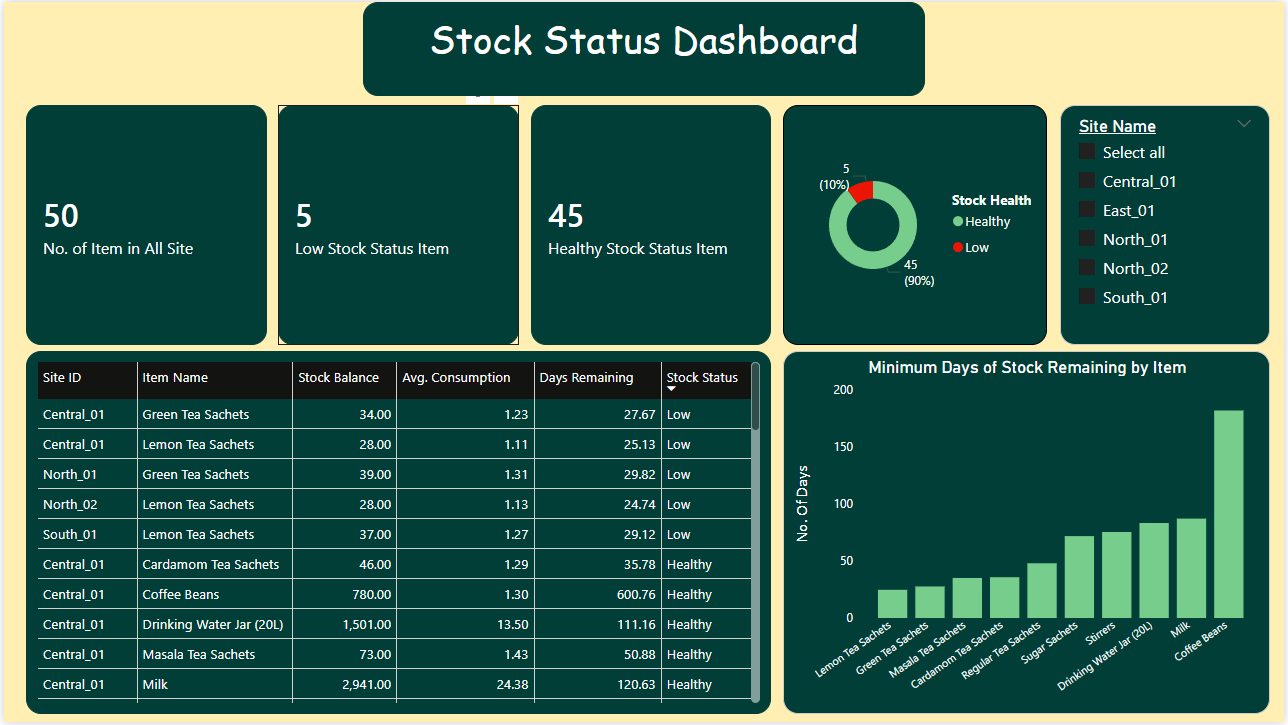

What the dashboard file says about the page in this screenshot:
{"tool":"powerbi","page":{"name":"Stock Health Dashbaord","canvas":[1280,720],"ordinal":0},"visuals":[{"type":"cardVisual","fields":{"Data":["CountNonNull(Stock Status.item_id)"]},"box":[22.4,103.1,240.2,240.2],"z":0},{"type":"cardVisual","fields":{"Data":["CountNonNull(Stock Status.item_id)"]},"box":[274.3,103.1,240.2,240.2],"z":1000},{"type":"cardVisual","fields":{"Data":["CountNonNull(Stock Status.item_id)"]},"box":[527.2,103.1,240.2,240.2],"z":2000},{"type":"tableEx","fields":{"Values":["Stock Status.site_id","Stock Status.item_name","Stock Status.balance_stock","Stock Status.avg_consumption","Stock Status.days_remaining","Stock Status.stock_status"]},"box":[22.4,349.2,745,362.8],"z":3000},{"type":"donutChart","fields":{"Category":["Stock Status.stock_status"],"Y":["CountNonNull(Stock Status.item_id)"]},"box":[779.1,103.1,263.6,240.2],"z":4000},{"type":"columnChart","title":"Minimum Days of Stock Remaining by Item","fields":{"Category":["Stock Status.item_name"],"Y":["Min(Stock Status.days_remaining)"]},"box":[779.1,349.2,487.3,362.8],"z":5000},{"type":"textbox","box":[358.9,0,562.2,94.3],"z":6000},{"type":"slicer","fields":{"Values":["Stock Status.site_id"]},"box":[1056.3,103.1,210.1,240.2],"z":7000}]}

Visuals, with their boxes in screenshot pixels (x1, y1, x2, y2), scaled from the page's 1280x720 canvas onto the 1288x725 screenshot:
cardVisual - CountNonNull(Stock Status.item_id): select_region(23, 104, 264, 346)
cardVisual - CountNonNull(Stock Status.item_id): select_region(276, 104, 518, 346)
cardVisual - CountNonNull(Stock Status.item_id): select_region(530, 104, 772, 346)
tableEx - Stock Status.site_id x Stock Status.item_name: select_region(23, 352, 772, 717)
donutChart - Stock Status.stock_status x CountNonNull(Stock Status.item_id): select_region(784, 104, 1049, 346)
"Minimum Days of Stock Remaining by Item" columnChart: select_region(784, 352, 1274, 717)
textbox: select_region(361, 0, 927, 95)
slicer - Stock Status.site_id: select_region(1063, 104, 1274, 346)
